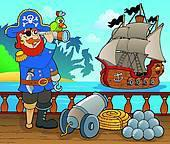bird: (49, 15, 67, 30)
boat: (95, 6, 164, 90)
person: (9, 26, 58, 130)
